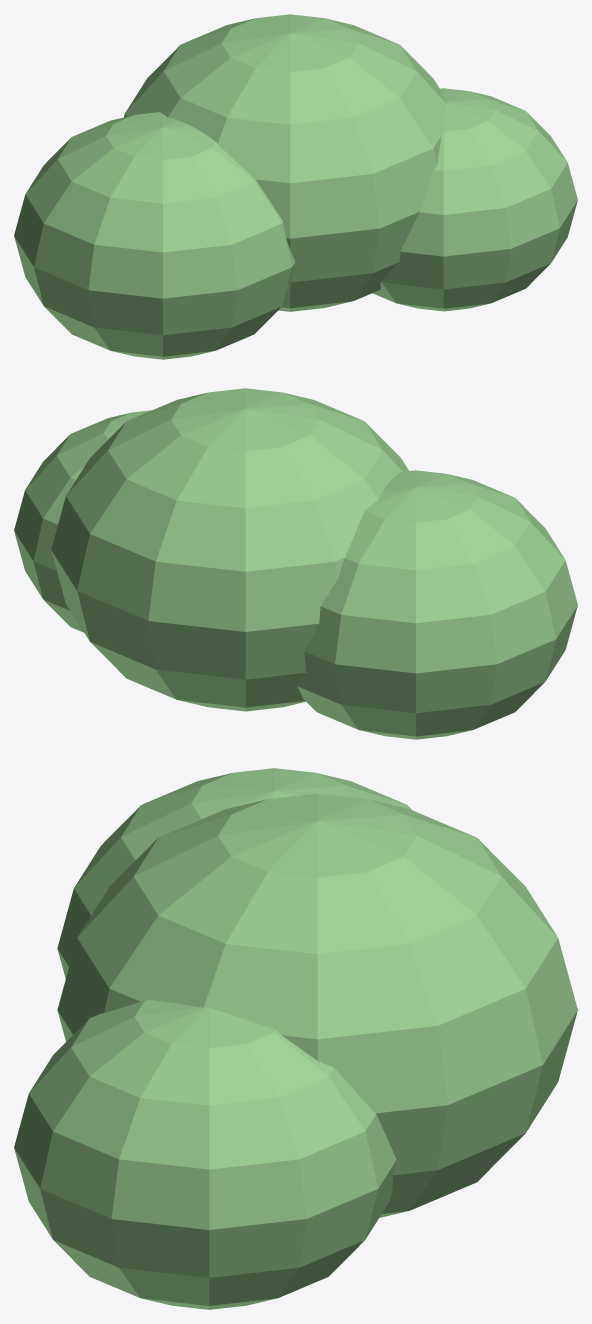
The model's file is bush.glb.
3 renders of one model, top to bottom at view 1: azimuth 30°, elevation 25°; view 2: azimuth 150°, elevation 25°; view 3: azimuth 270°, elevation 25°, orthographic. The views are drawn at different scales.
Visible parts, largest first — view 1: bush; view 2: bush; view 3: bush.
Boxes of the visible parts, left/top/right/bottom form: bush: left=14, top=14, right=577, bottom=359; bush: left=14, top=388, right=577, bottom=739; bush: left=14, top=768, right=577, bottom=1309.
Bounding box in the file's own units: 1.95 × 0.98 × 1.3.
